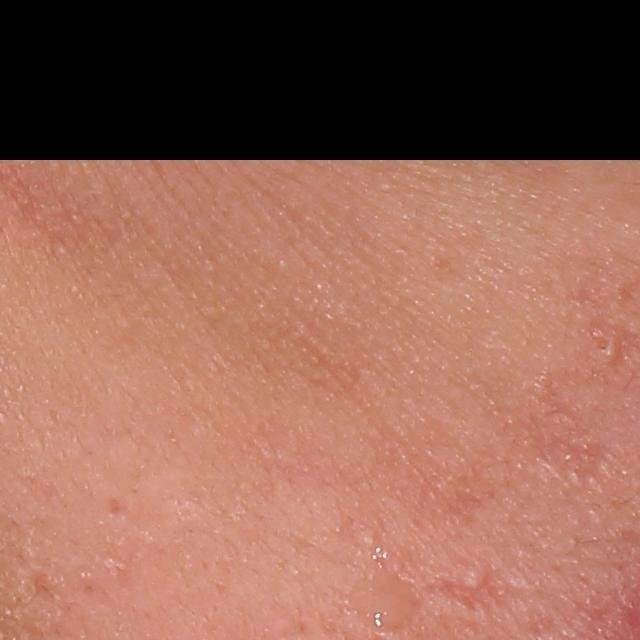atrophic_scar: (507, 370, 625, 488), (424, 573, 523, 616), (106, 494, 128, 521)
hypertrophic_scar: (457, 565, 487, 586)
